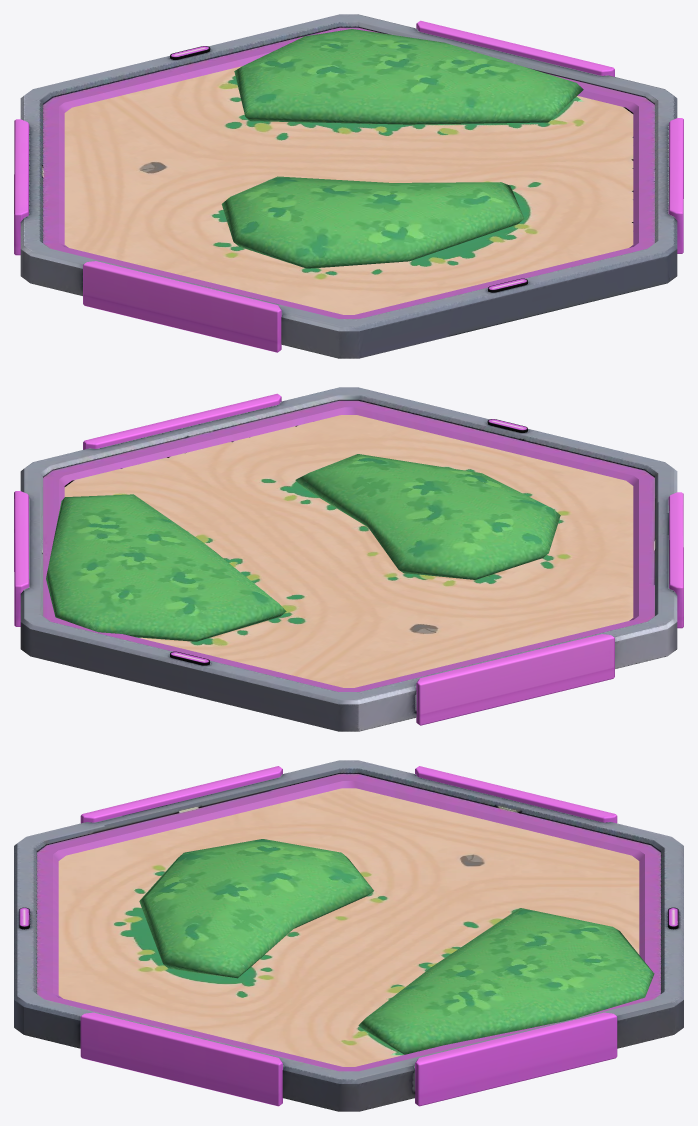
The model's file is pm-hexagon-large-vip-03.glb.
3 views of the same model, one above another, from view 1: azimuth 30°, elevation 25°; view 2: azimuth 150°, elevation 25°; view 3: azimuth 270°, elevation 25° (orthographic). The views are drawn at different scales.
Visible parts, largest first — view 1: HexagonLargeVIP03_Art; view 2: HexagonLargeVIP03_Art; view 3: HexagonLargeVIP03_Art.
Part boxes in pixels (bbox=[...]): HexagonLargeVIP03_Art: bbox=[14, 14, 683, 358]; HexagonLargeVIP03_Art: bbox=[14, 387, 683, 731]; HexagonLargeVIP03_Art: bbox=[14, 760, 683, 1111].
Size of the model in its own units: 31.52 by 2.64 by 27.7.
2 materials, 2 textured.
